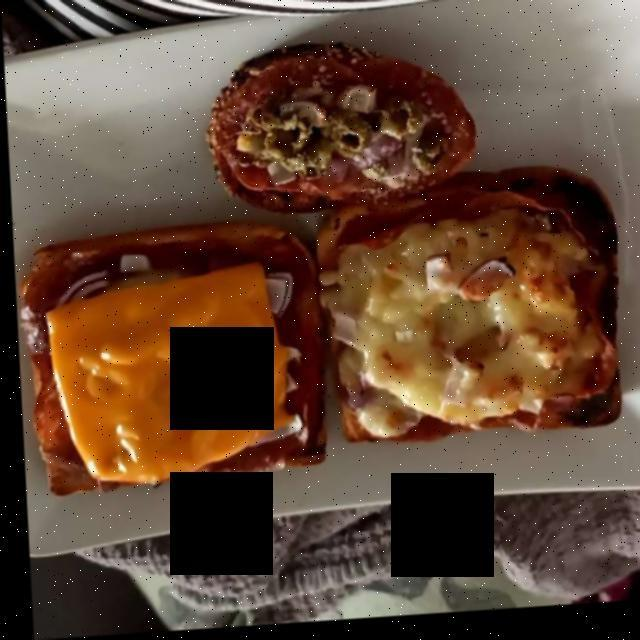bread: (207, 56, 483, 223)
